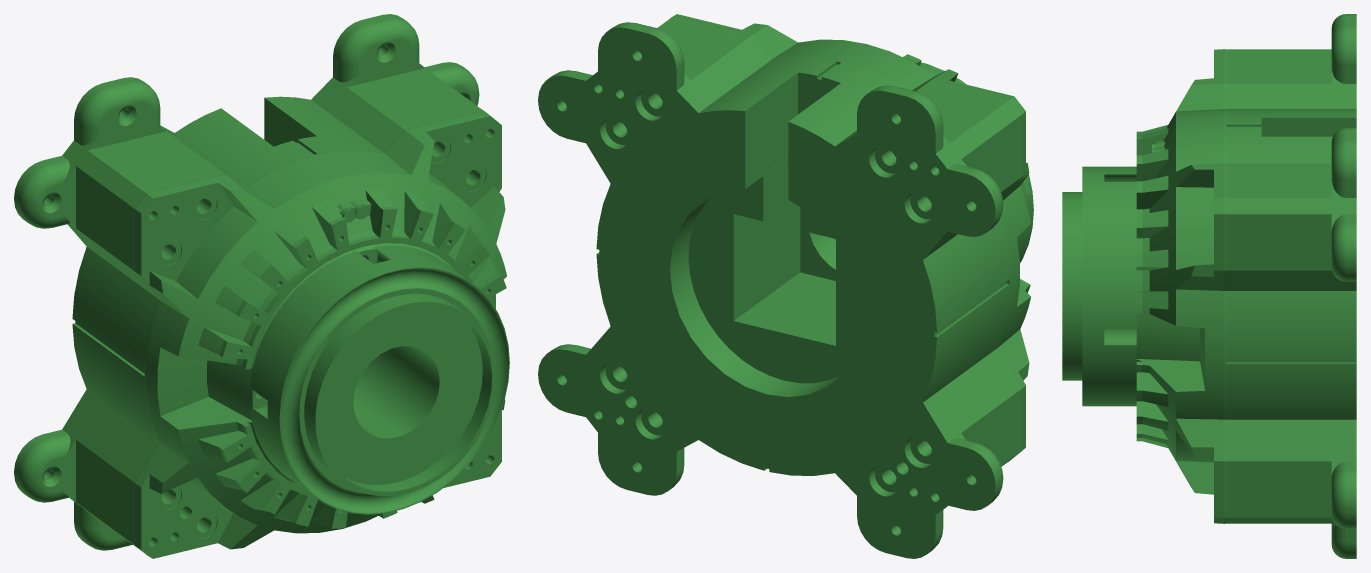
3 views of the same model, side by side, from view 1: azimuth 30°, elevation 25°; view 2: azimuth 150°, elevation 25°; view 3: azimuth 270°, elevation 25° (orthographic). The views are drawn at different scales.
Visible parts, largest first — view 1: Cuerpo1:2, Cuerpo1:3, Cuerpo1; view 2: Cuerpo1:3, Cuerpo1:1, Cuerpo1:2, Cuerpo1; view 3: Cuerpo1:3, Cuerpo1:2, Cuerpo1.
Part boxes in pixels (x1=…): Cuerpo1:2: x1=133, y1=110, x2=506, y2=558; Cuerpo1:3: x1=14, y1=14, x2=482, y2=550; Cuerpo1: x1=250, y1=245, x2=509, y2=514; Cuerpo1:3: x1=538, y1=19, x2=1018, y2=558; Cuerpo1:1: x1=688, y1=158, x2=863, y2=383; Cuerpo1:2: x1=670, y1=14, x2=1030, y2=461; Cuerpo1: x1=920, y1=62, x2=1033, y2=262; Cuerpo1:3: x1=1227, y1=14, x2=1356, y2=558; Cuerpo1:2: x1=1136, y1=49, x2=1227, y2=523; Cuerpo1: x1=1062, y1=166, x2=1136, y2=406.
Bounding box in the file's own units: 19.07 × 18.39 × 11.77.
